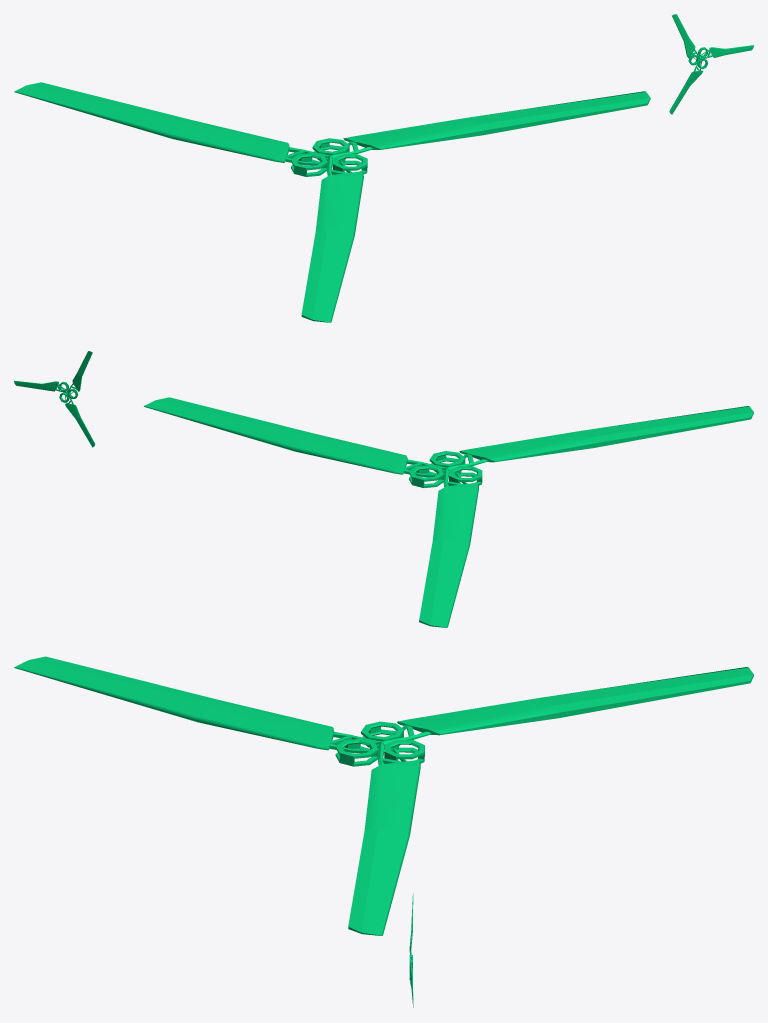
Rendered from Helicopter_paddle.fbx.
3 views of the same model, one above another, from view 1: azimuth 30°, elevation 25°; view 2: azimuth 150°, elevation 25°; view 3: azimuth 270°, elevation 25° (orthographic). The views are drawn at different scales.
Visible parts, largest first — view 1: polySurface81; view 2: polySurface81; view 3: polySurface81.
Boxes of the visible parts, left/top/right/bottom form: polySurface81: left=14, top=14, right=753, bottom=322; polySurface81: left=14, top=351, right=753, bottom=627; polySurface81: left=14, top=656, right=753, bottom=1007.
Size of the model in its own units: 18.15 by 2.84 by 16.39.
